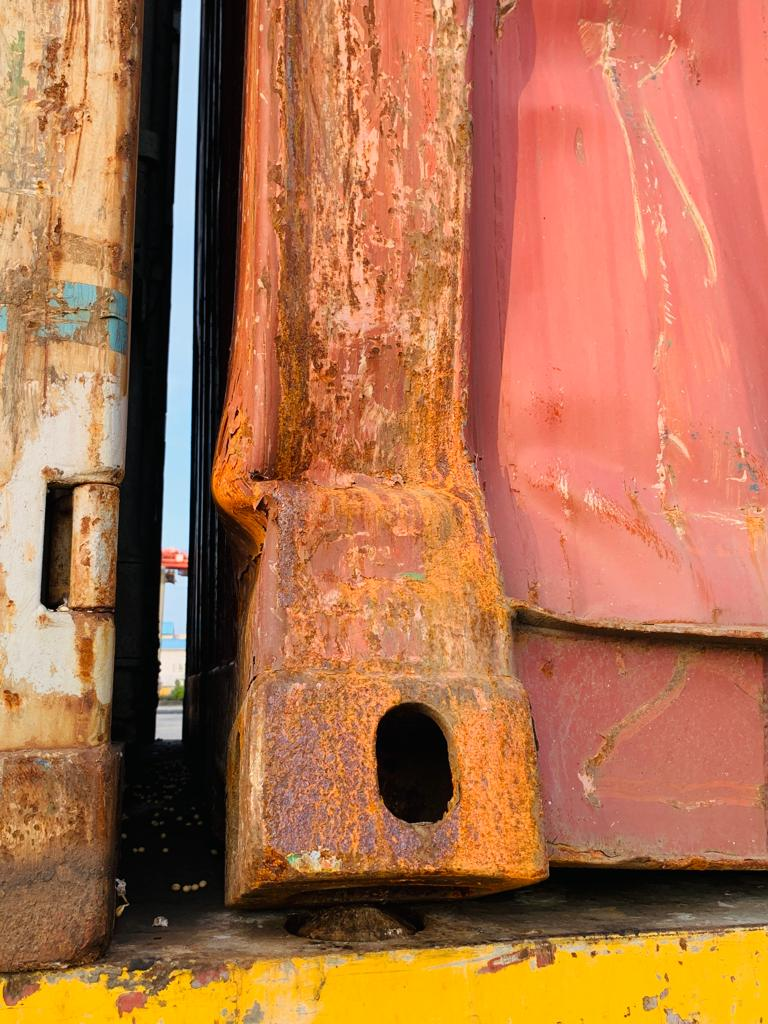moderate: (187, 310, 526, 668)
